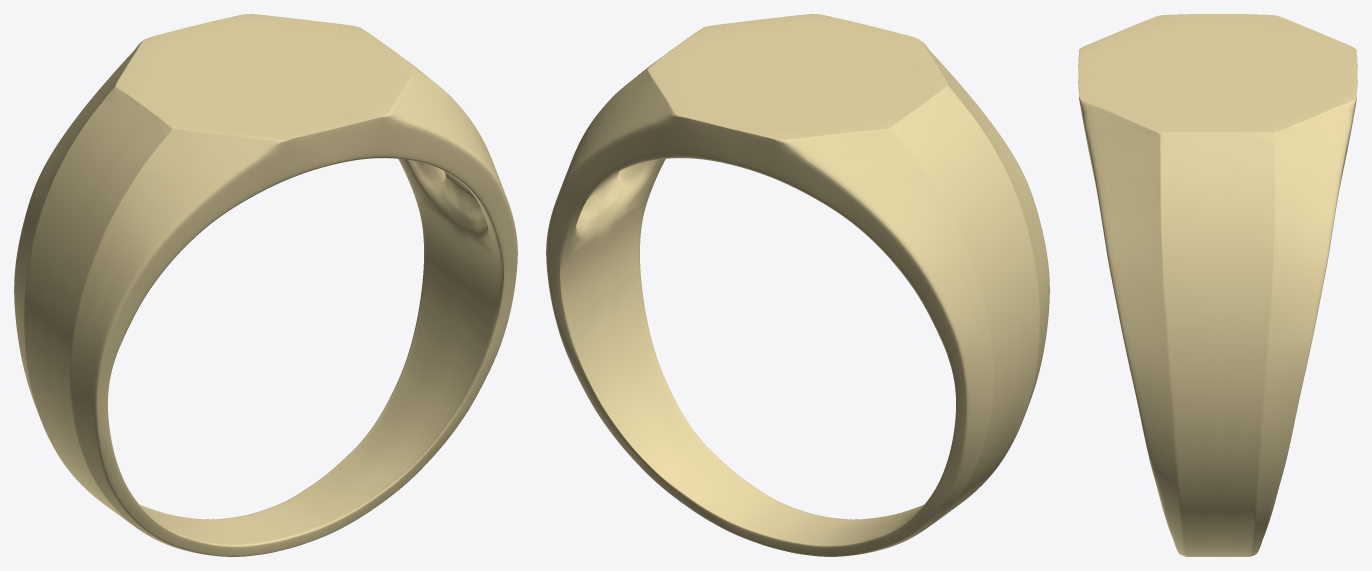
File: octogonal_ring.glb
3 renders of one model, left to right at view 1: azimuth 30°, elevation 25°; view 2: azimuth 150°, elevation 25°; view 3: azimuth 270°, elevation 25°, orthographic.
Parts seen in each view (by area): view 1: Object_2; view 2: Object_2; view 3: Object_2.
Part boxes in pixels (left/top/right/bottom): Object_2: left=14, top=14, right=517, bottom=556; Object_2: left=546, top=14, right=1049, bottom=556; Object_2: left=1078, top=14, right=1357, bottom=556.
Size of the model in its own units: 33.13 by 33.48 by 18.42.
